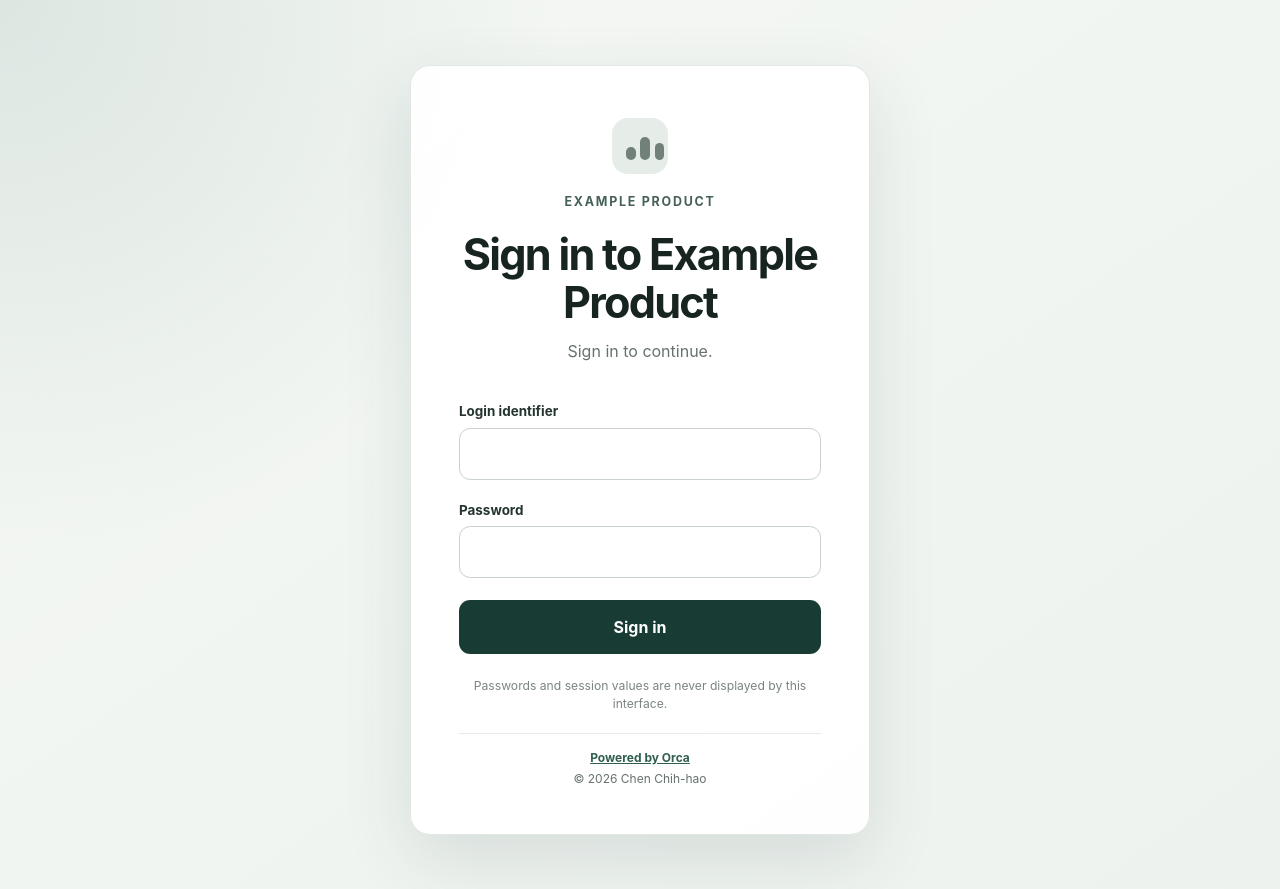
Test: frontend-04 public session coordination contract › rejects missing expiry metadata, performs one cleanup logout, and stays safe
In the field labelled "Login identifier": (640, 454) x1=459 y1=428 x2=821 y2=480, type "fixture-login"
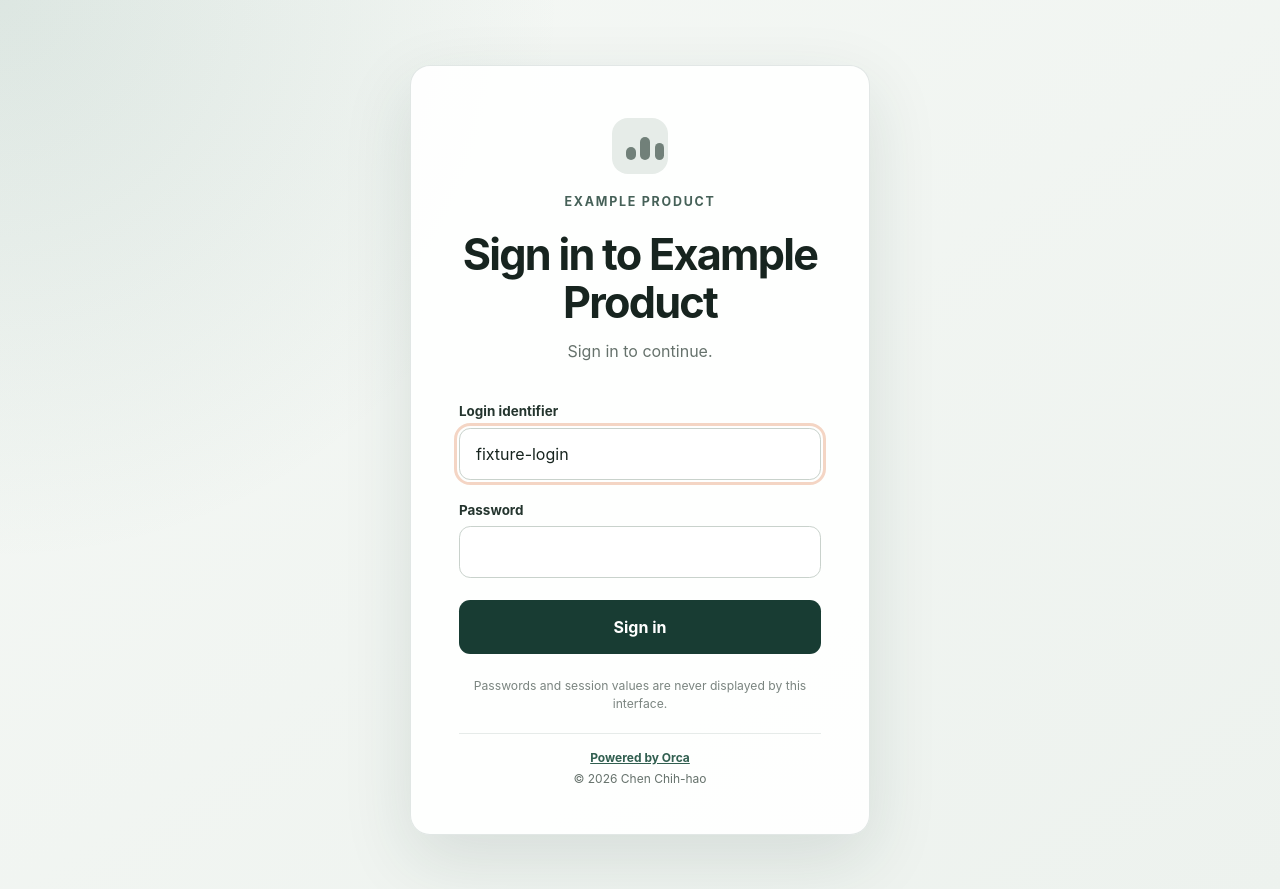
In the password field labelled "Password": (640, 552) x1=459 y1=526 x2=821 y2=578, type "correct-password"
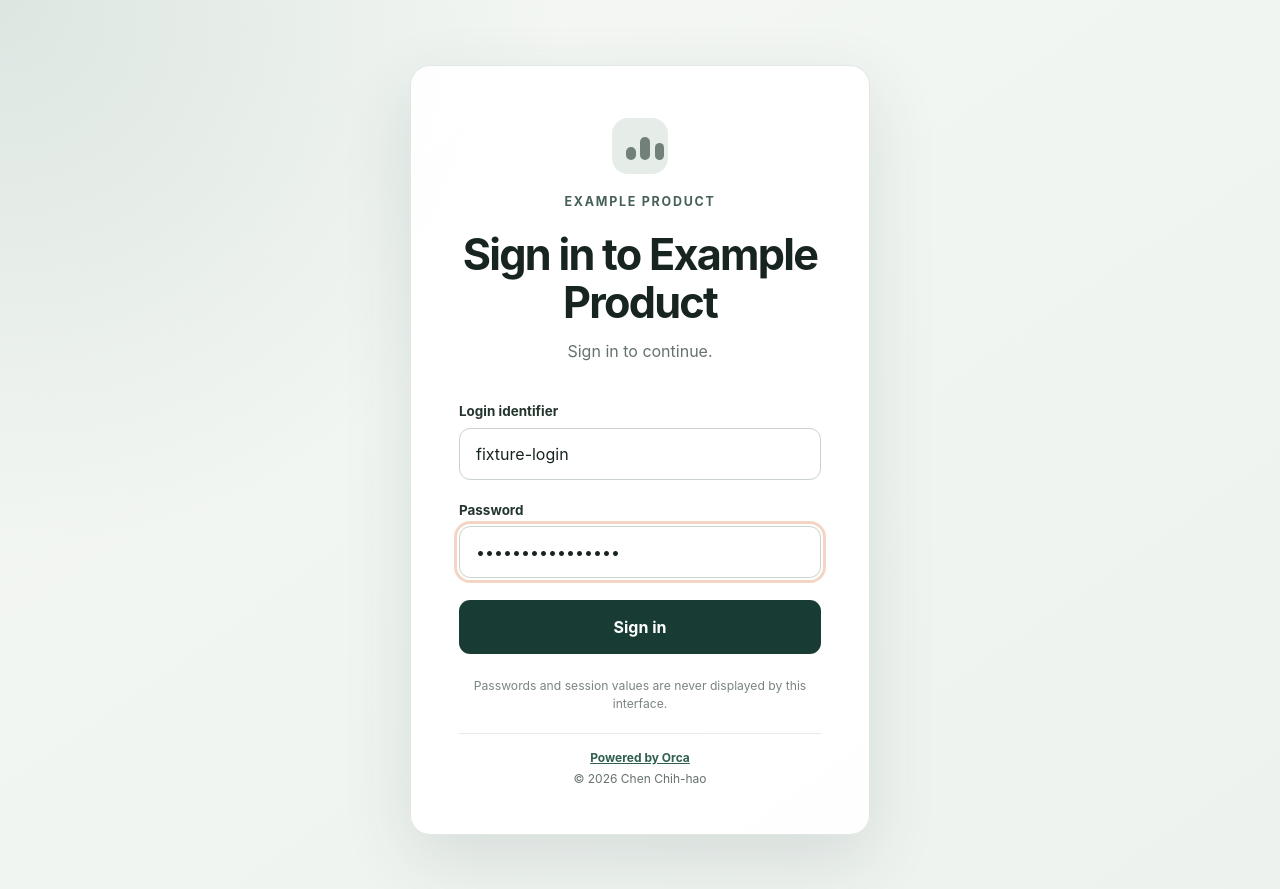
Click the button "Sign in": click(640, 627) x1=459 y1=600 x2=821 y2=654
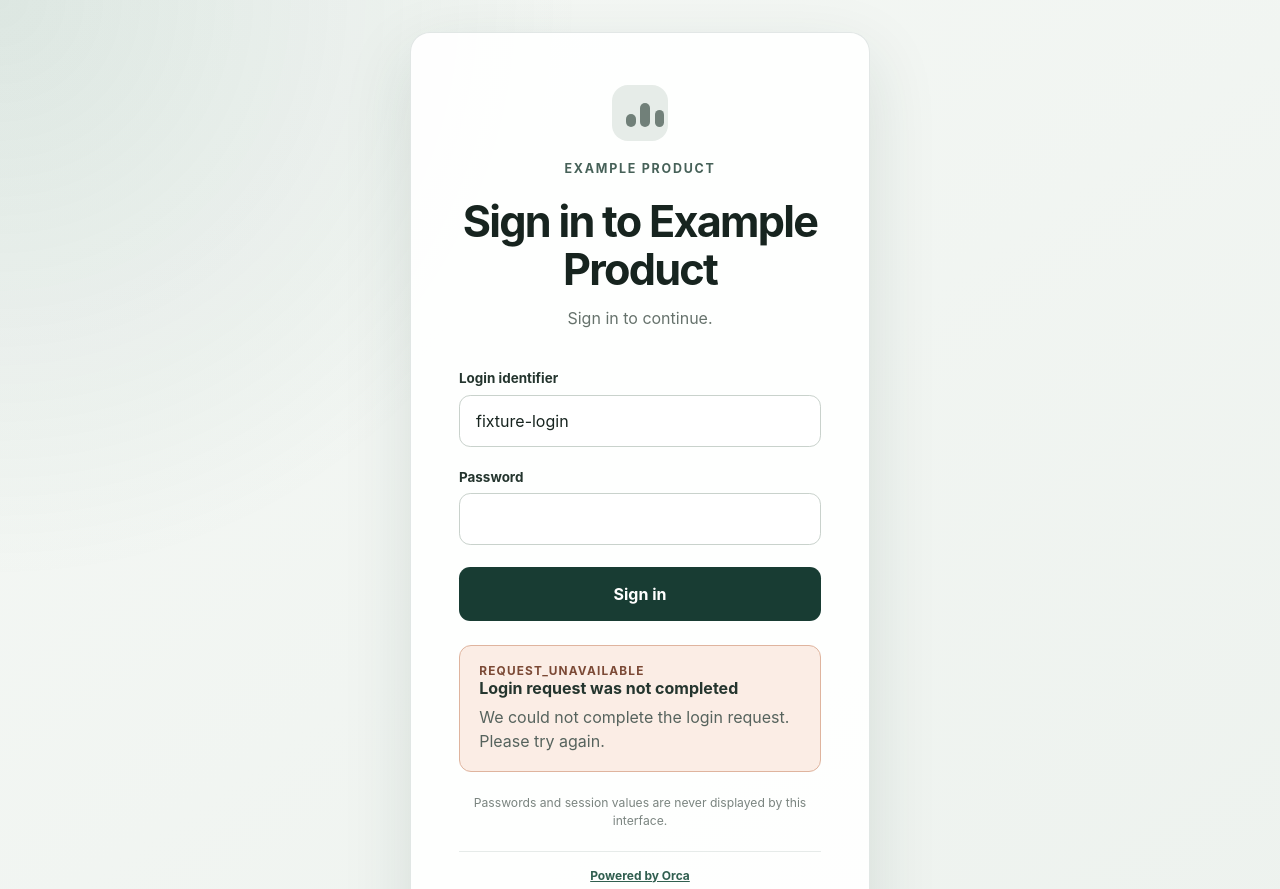
Now the message shows "REQUEST_UNAVAILABLE", box x1=479 y1=664 x2=645 y2=678
